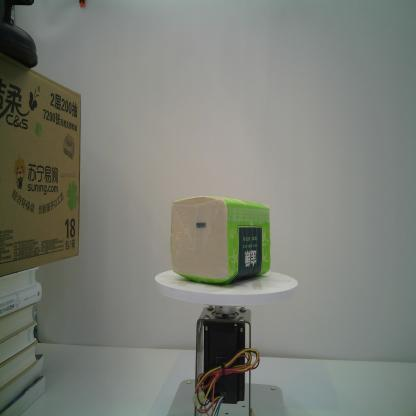Tissue: (166, 192, 273, 290)
